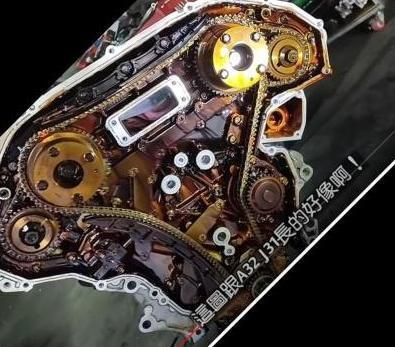hole: (162, 175, 178, 192), (198, 151, 214, 167), (215, 228, 231, 243), (319, 63, 335, 78), (182, 0, 196, 13), (156, 293, 170, 306), (0, 277, 12, 290), (20, 279, 32, 290), (314, 18, 325, 29), (292, 129, 303, 140), (223, 245, 234, 255), (175, 154, 185, 165), (107, 44, 117, 54), (271, 95, 281, 105), (294, 87, 304, 97), (97, 280, 106, 290), (267, 145, 276, 154)
